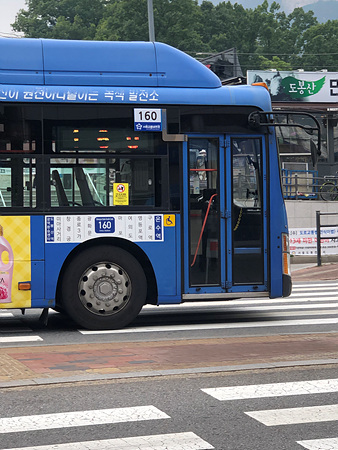entrance: (178, 125, 275, 301)
